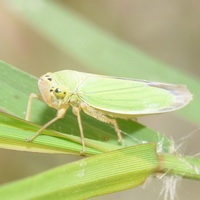insect: (26, 70, 191, 153)
